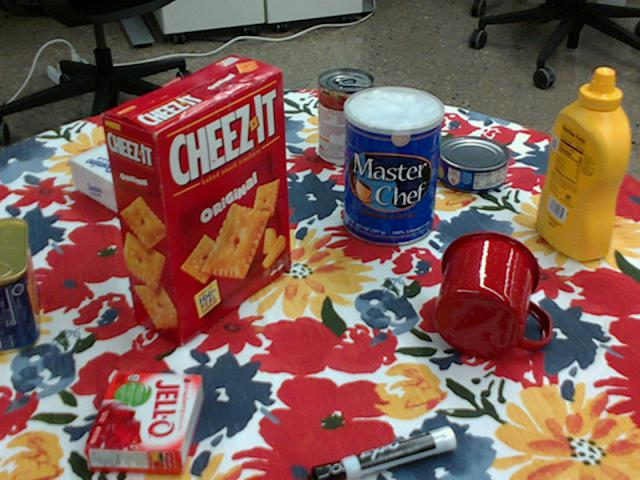cracker_box: (97, 55, 286, 343)
gelatin_box: (88, 372, 203, 473)
large_marker: (308, 425, 457, 479)
master_chef_can: (344, 86, 443, 247)
mug: (435, 230, 551, 357)
mustard_bottle: (534, 69, 628, 261)
potted_meat_can: (0, 216, 39, 352)
sugar_box: (68, 112, 235, 216)
tomato_soup_can: (317, 68, 373, 167)
tuna_fish_can: (438, 137, 511, 194)
